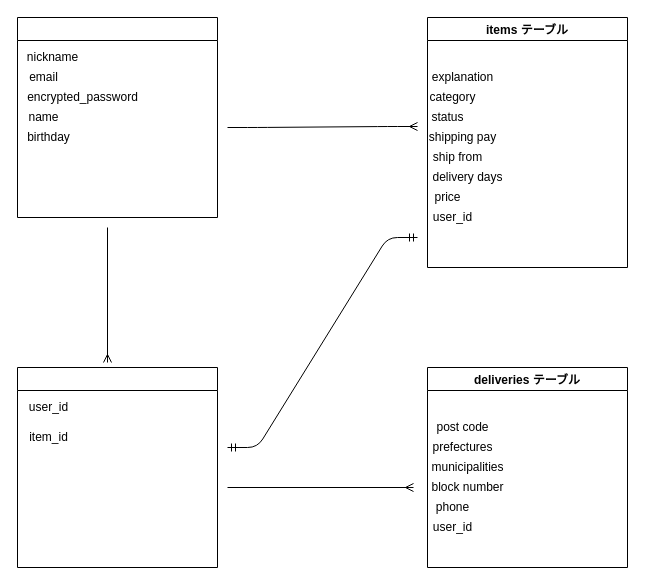
The diagram is 645 pixels wide and 585 high, and some of its shapes have lost their labels. The box of each missing label's shape, as (x1, y1, x2, y2) in pixels:
purchases テーブル: (16, 366, 218, 568)
users テーブル: (16, 16, 218, 218)
